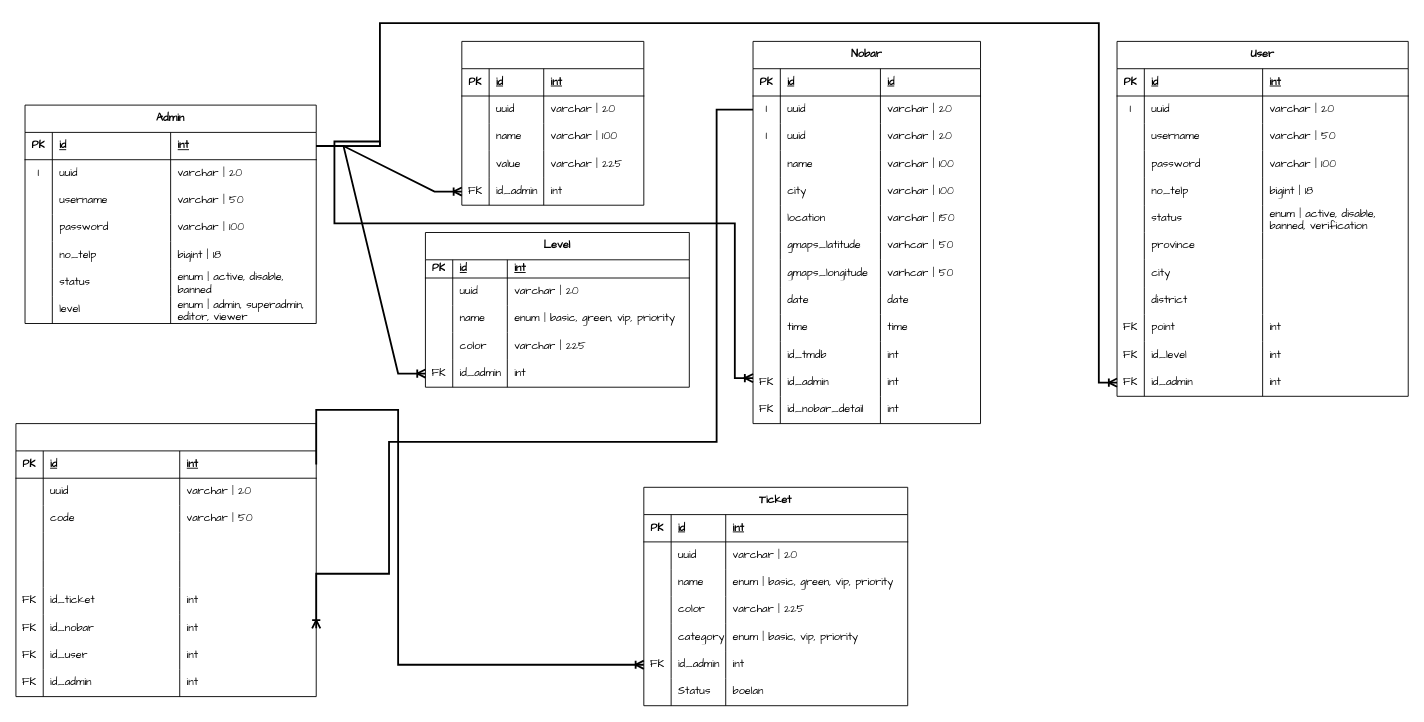
This 1424x722 diagram has some shape labels left out. Here are the shapes that lost their labels. From the top down, the box of each, then its label:
(461, 40, 644, 205): Setting
(15, 423, 316, 697): Bill
